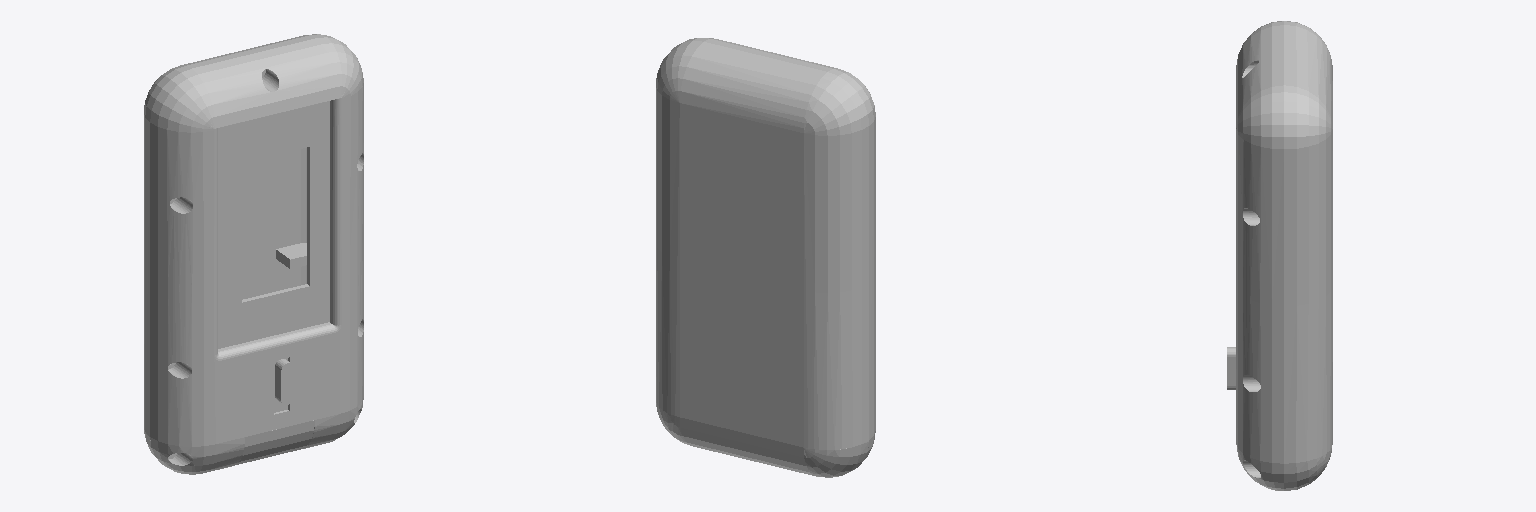
File: FlashLight.obj
3 views of the same model, side by side, from view 1: azimuth 30°, elevation 25°; view 2: azimuth 150°, elevation 25°; view 3: azimuth 270°, elevation 25° (orthographic).
Visible parts, largest first — view 1: Body1:1, Body1:2, Body1:3; view 2: Body1:2, Body1:1; view 3: Body1:2, Body1:1.
Boxes of the visible parts, x1=… form: Body1:1: x1=150, y1=37, x2=363, y2=474; Body1:2: x1=144, y1=34, x2=334, y2=460; Body1:3: x1=274, y1=358, x2=293, y2=412; Body1:2: x1=656, y1=41, x2=868, y2=477; Body1:1: x1=685, y1=38, x2=875, y2=465; Body1:2: x1=1284, y1=21, x2=1332, y2=490; Body1:1: x1=1236, y1=21, x2=1283, y2=490.
Bounding box in the file's own units: 6.7 × 12.4 × 2.95.